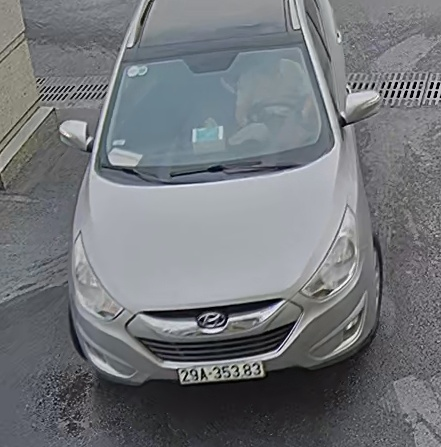vehicle plate: (171, 361, 272, 388)
